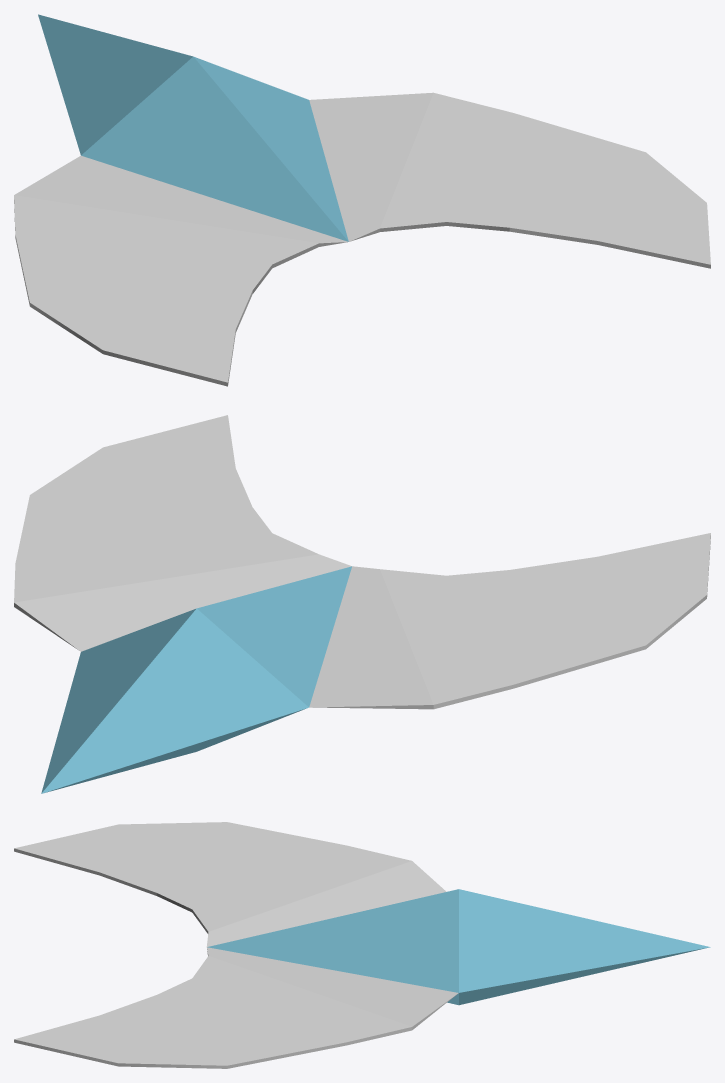
File: Bluebullet.fbx
3 renders of one model, top to bottom at view 1: azimuth 30°, elevation 25°; view 2: azimuth 150°, elevation 25°; view 3: azimuth 270°, elevation 25°, orthographic. The views are drawn at different scales.
Parts seen in each view (by area): view 1: BlueBullet; view 2: BlueBullet; view 3: BlueBullet.
Part boxes in pixels (x1,y1,x2,y2): BlueBullet: (14, 14, 710, 386); BlueBullet: (14, 415, 710, 793); BlueBullet: (14, 822, 710, 1068).
Bounding box in the file's own units: 7.61 × 1.69 × 9.2.
